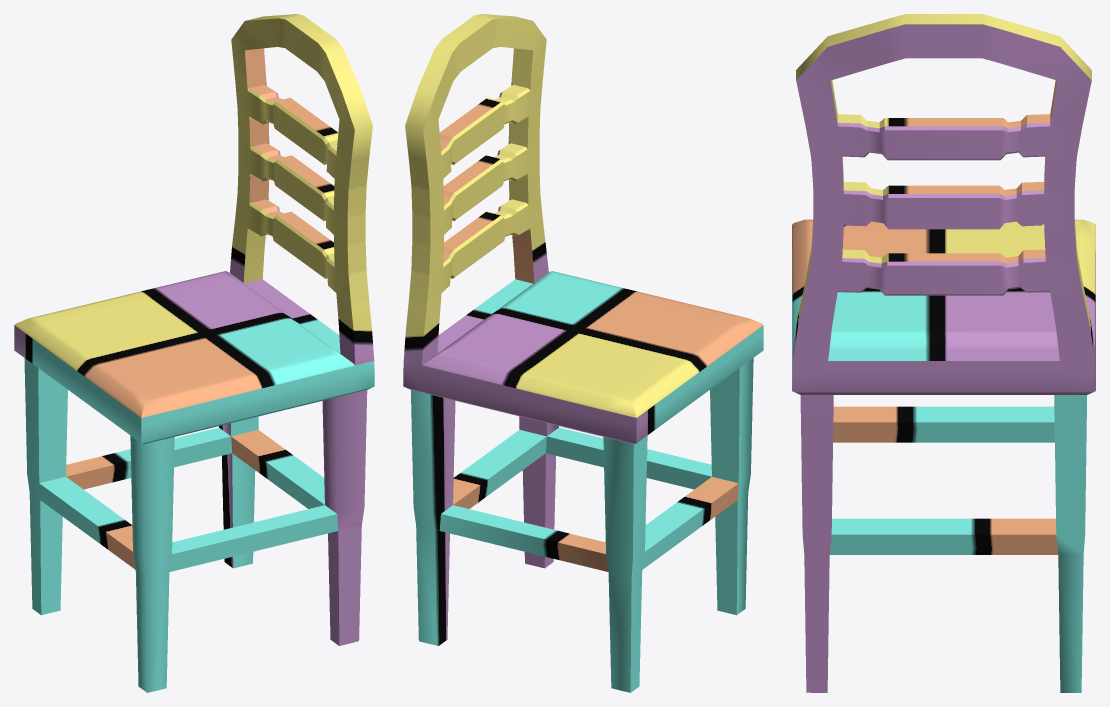
File: LobbyChairs02.fbx
The picture shows the model from 3 angles, left to right: view 1: azimuth 30°, elevation 25°; view 2: azimuth 150°, elevation 25°; view 3: azimuth 270°, elevation 25°; orthographic projection. The views are drawn at different scales.
Parts seen in each view (by area): view 1: LobbyChairs2_MESH; view 2: LobbyChairs2_MESH; view 3: LobbyChairs2_MESH.
Boxes of the visible parts, bbox=[...] form: LobbyChairs2_MESH: bbox=[14, 14, 374, 692]; LobbyChairs2_MESH: bbox=[403, 14, 763, 692]; LobbyChairs2_MESH: bbox=[792, 14, 1095, 692].
Size of the model in its own units: 60.05 by 134 by 54.47.
